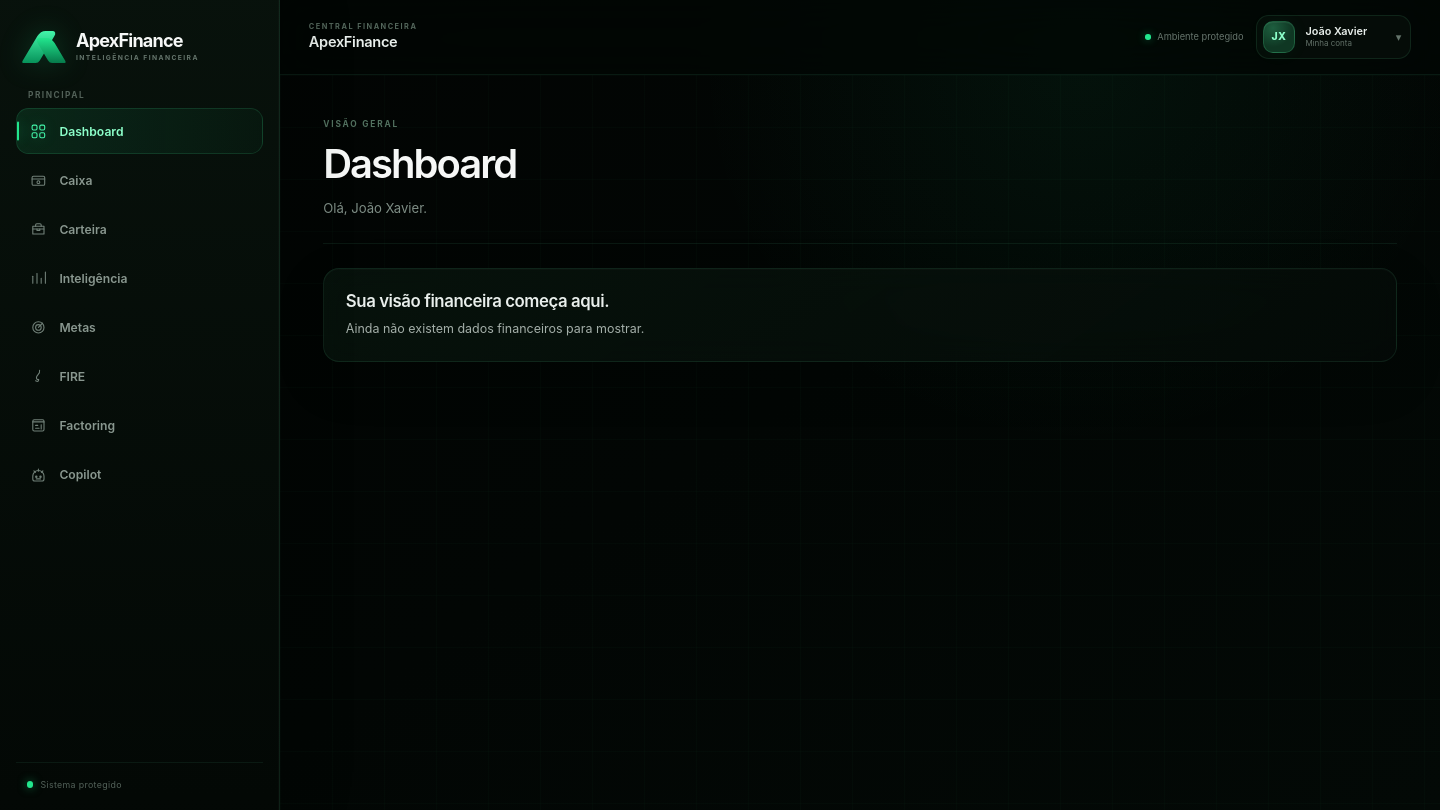
Test: Menu do usuário do ApexFinance › fecha o menu ao pressionar Escape
Click the button with aria-label "abrir menu do usuário": (1334, 37) [1256, 15, 1411, 59]
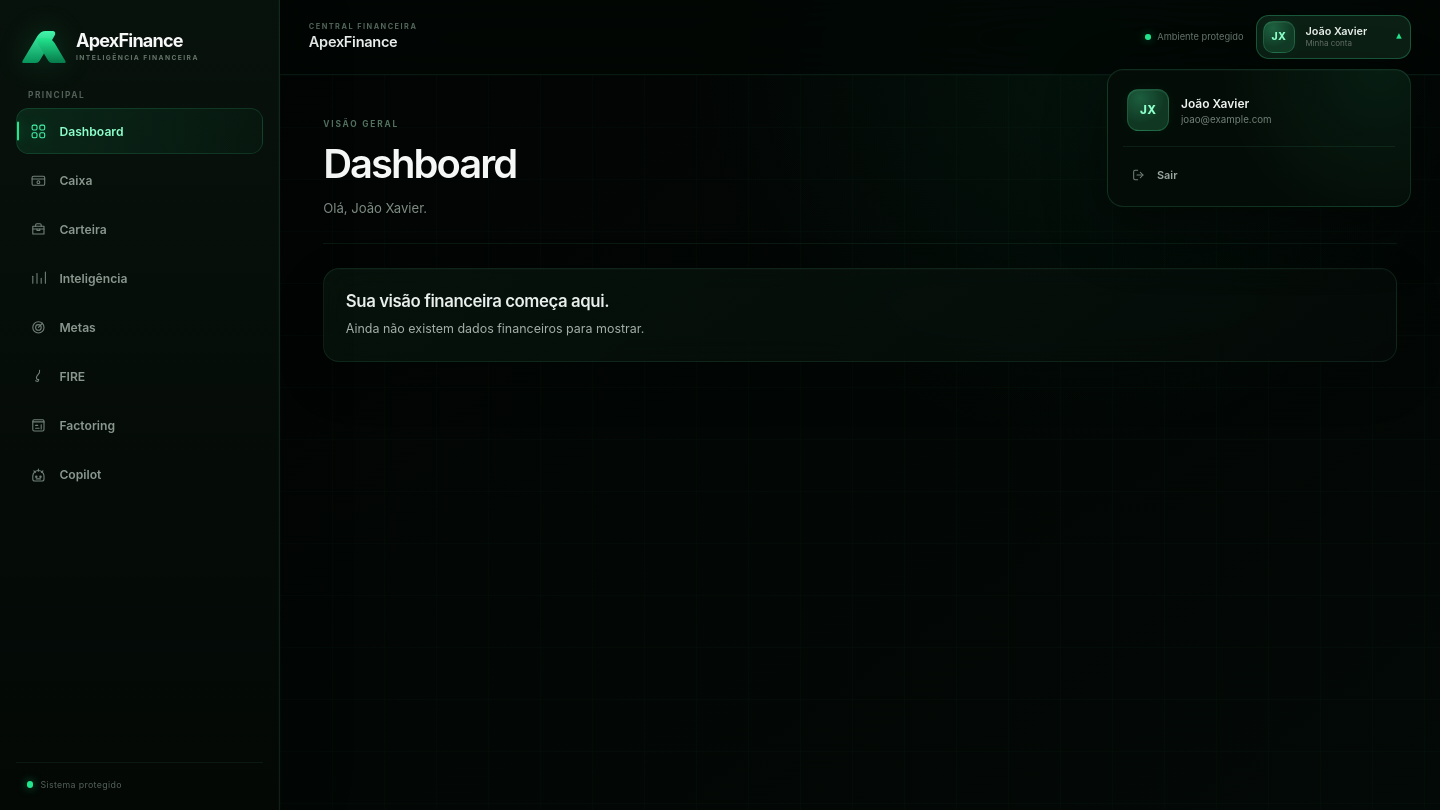
expect the text "joao@example.com" is shown: met, box [1181, 114, 1272, 125]
Press Escape
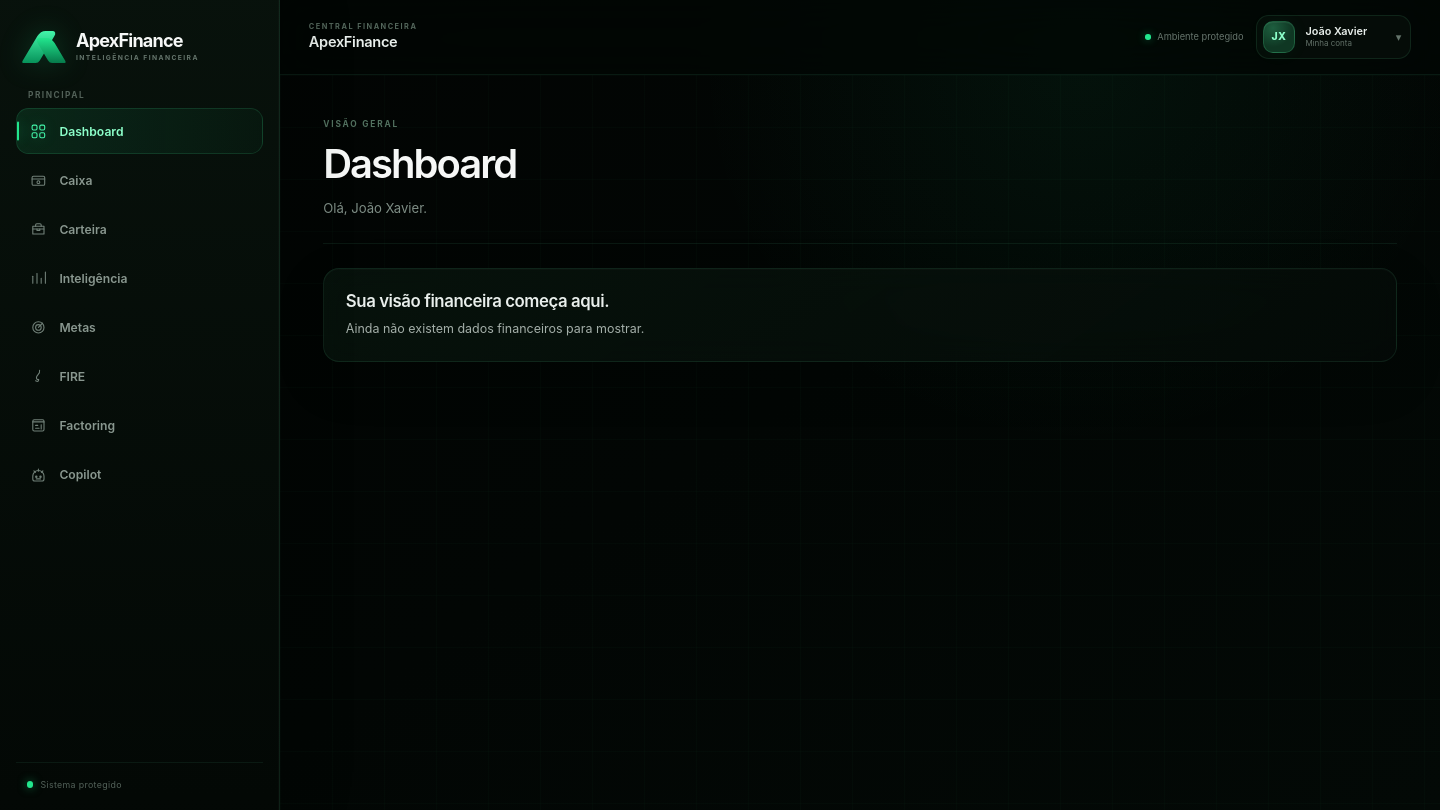
expect the text "joao@example.com" is gone: met
